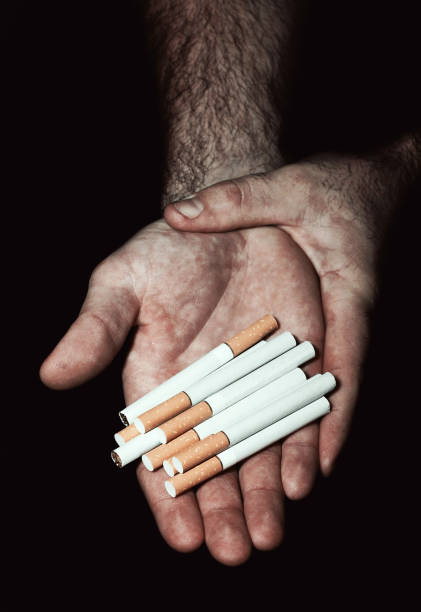cigarette: (109, 339, 318, 468), (116, 314, 281, 428), (138, 364, 308, 473), (162, 395, 334, 499), (131, 330, 299, 434), (171, 370, 339, 473), (111, 425, 139, 447), (160, 457, 177, 479)
